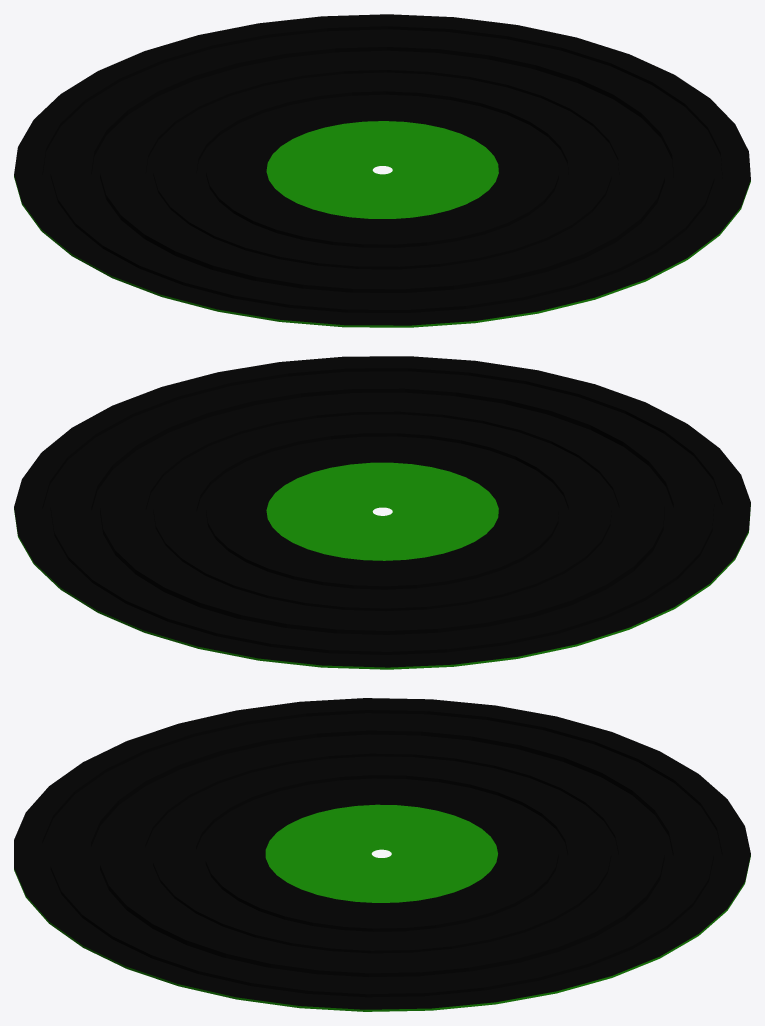
File: DiscoVinilVerde.fbx
3 renders of one model, top to bottom at view 1: azimuth 30°, elevation 25°; view 2: azimuth 150°, elevation 25°; view 3: azimuth 270°, elevation 25°, orthographic.
Visible parts, largest first — view 1: DiscoVinilVerde; view 2: DiscoVinilVerde; view 3: DiscoVinilVerde.
Part boxes in pixels (bbox=[...]): DiscoVinilVerde: bbox=[14, 14, 750, 327]; DiscoVinilVerde: bbox=[14, 356, 750, 669]; DiscoVinilVerde: bbox=[14, 698, 750, 1011].
Size of the model in its own units: 147 by 1.01 by 146.
